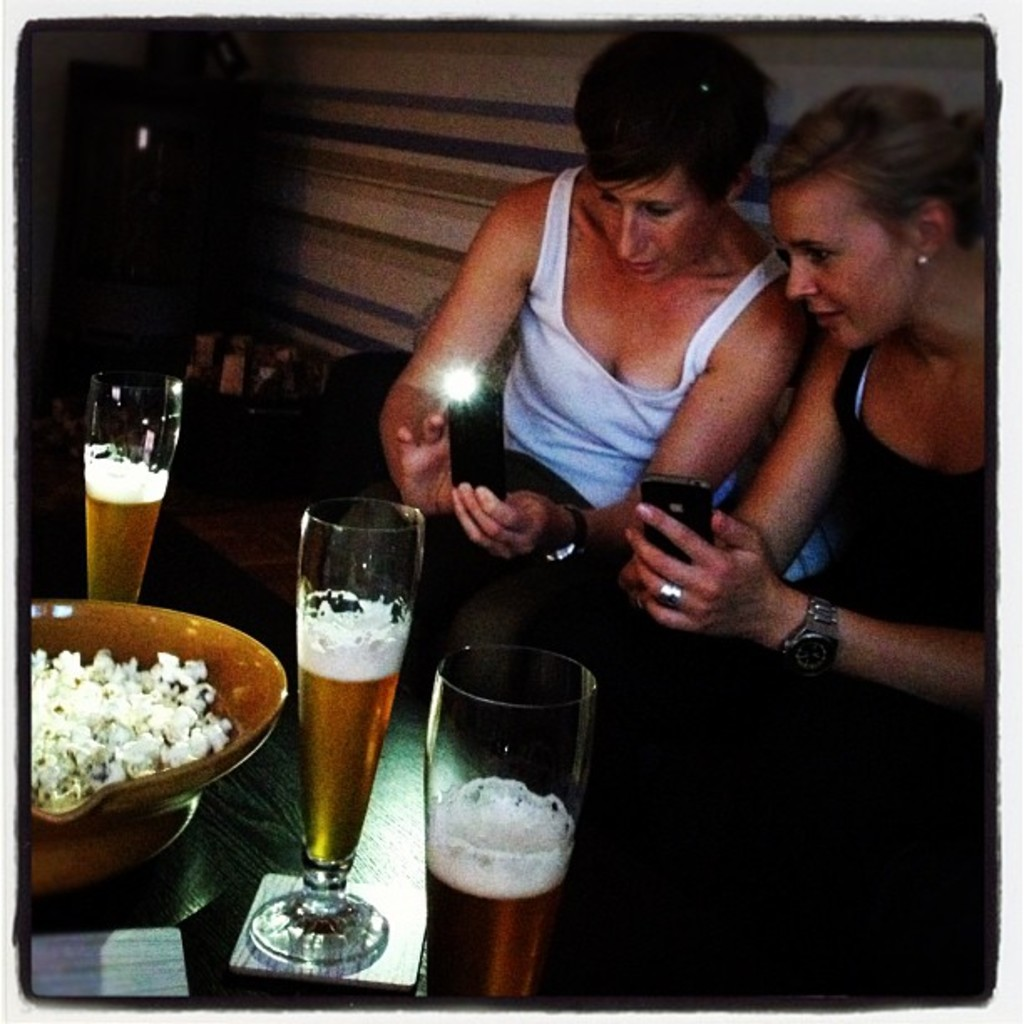Beer: (289, 597, 403, 868), (78, 443, 165, 600)
